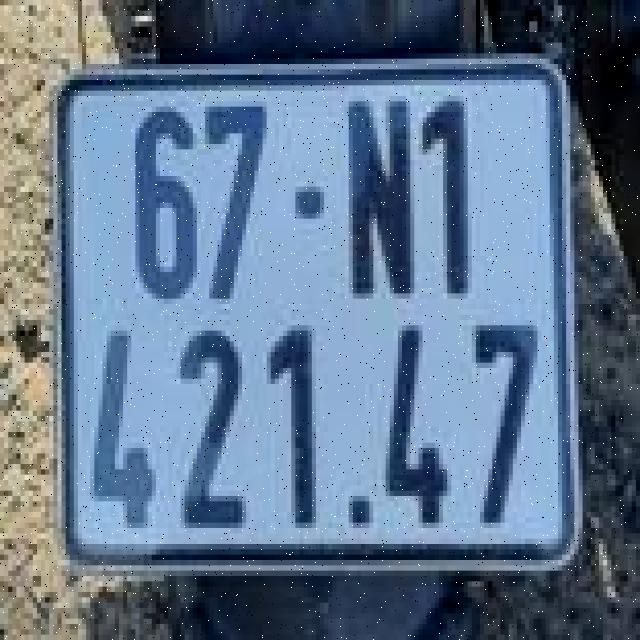1: (259, 315, 328, 533), (416, 88, 478, 307)
2: (170, 323, 256, 536)
4: (84, 325, 170, 539), (378, 317, 460, 536)
6: (125, 93, 203, 312)
7: (457, 309, 548, 528), (201, 85, 275, 315)
N: (344, 83, 418, 312)
